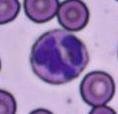N: (30, 30, 90, 83)
